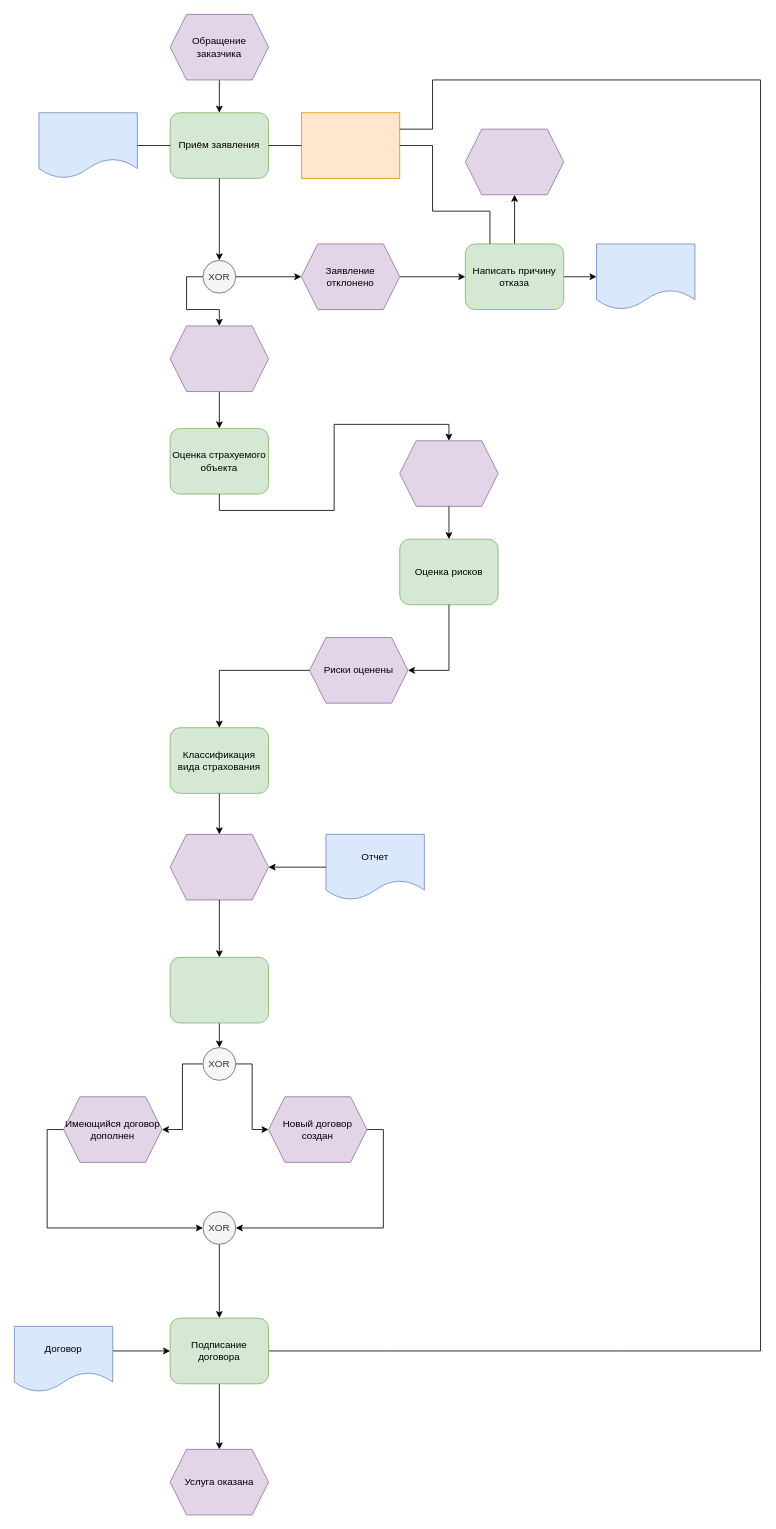
This 776x1529 diagram has some shape labels left out. The shapes that lost their labels are listed below. From the top down, each one's centre as x and y in pixels, then its label:
At point 87,145: "Заявление".
At point 350,145: "Страховой агент".
At point 514,161: "Вывод причины отказа и окончание процесса".
At point 645,276: "Отзыв".
At point 219,358: "Заявление принято".
At point 448,473: "Объект оценен".
At point 219,867: "Классифицирован вид".
At point 219,990: "Формирование договора".
